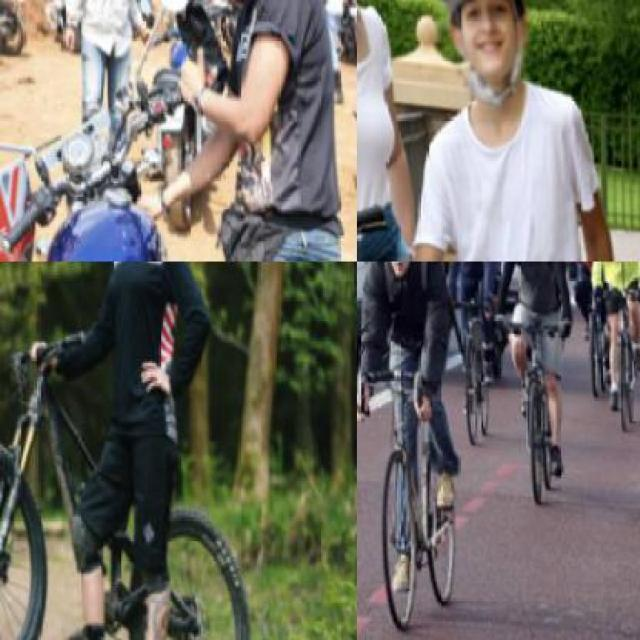With Helmet: (429, 0, 540, 98)
